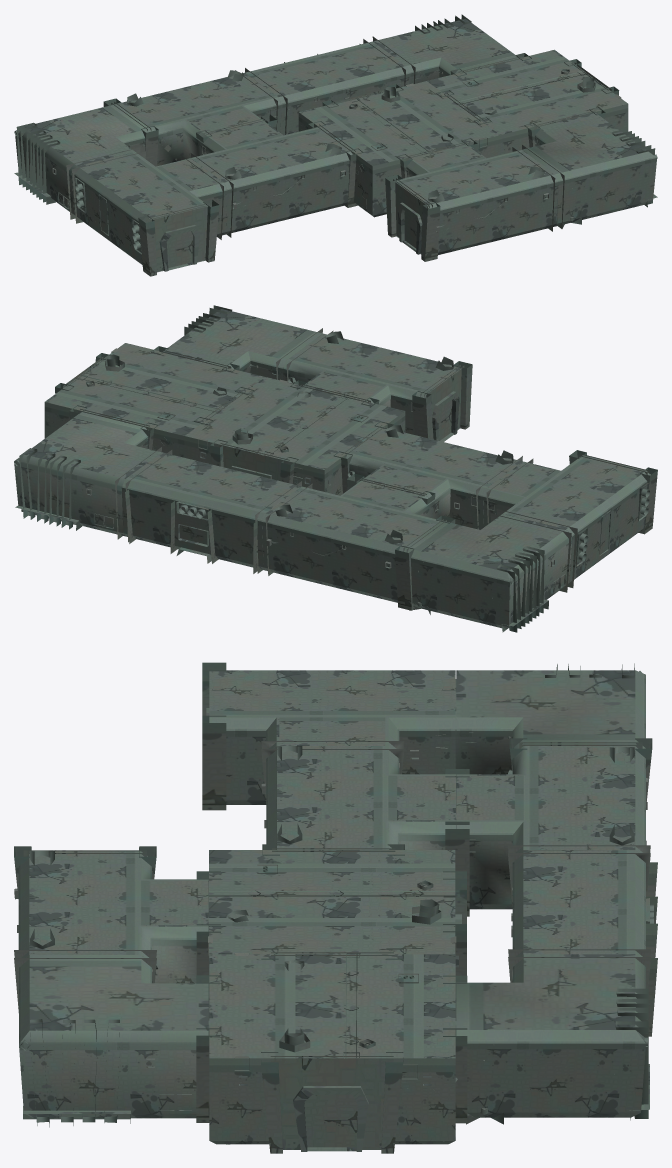
The model's file is Combined_Mesh_root_scene__1_e4e4d5ea__zombies2_diffuse_08_b0bdab26_c1f257.obj.
3 views of the same model, one above another, from view 1: azimuth 30°, elevation 25°; view 2: azimuth 150°, elevation 25°; view 3: azimuth 270°, elevation 25° (orthographic). The views are drawn at different scales.
Bounding box in the file's own units: 77.02 × 9.64 × 52.3.
Materials: 159 (159 with a texture image).
